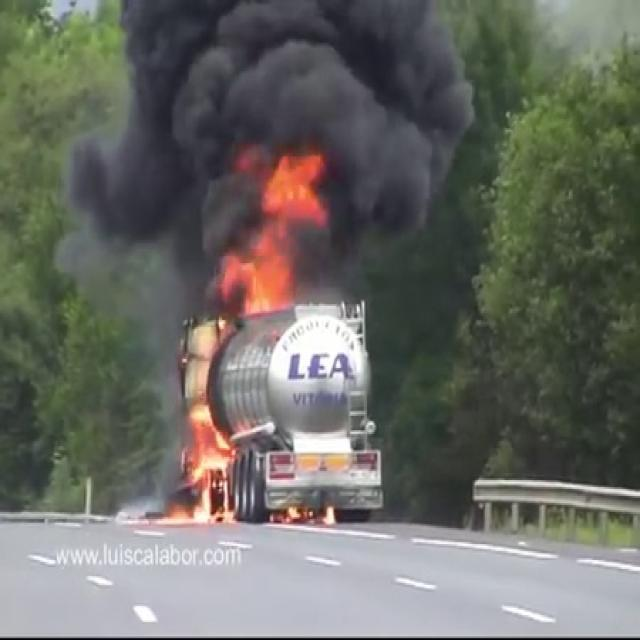Fire: (222, 142, 328, 320), (178, 402, 240, 518)
Smoke: (76, 0, 480, 290)
